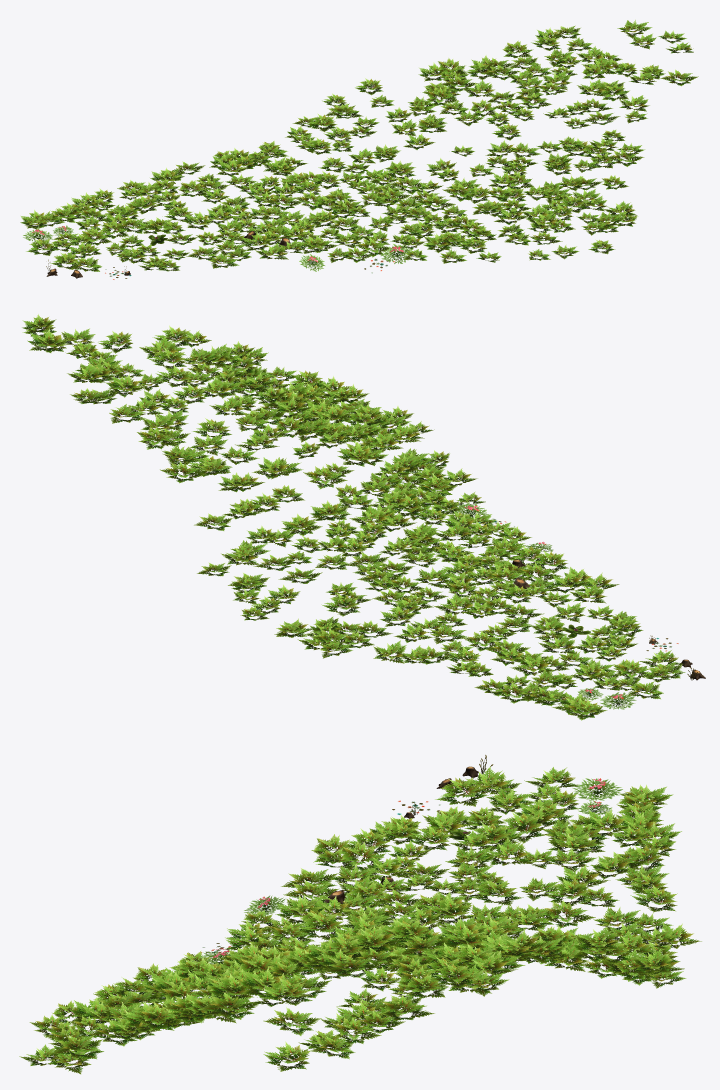
The model's file is Ferns_14.fbx.
3 renders of one model, top to bottom at view 1: azimuth 30°, elevation 25°; view 2: azimuth 150°, elevation 25°; view 3: azimuth 270°, elevation 25°, orthographic. The views are drawn at different scales.
Parts seen in each view (by area): view 1: Ferns_14; view 2: Ferns_14; view 3: Ferns_14.
Boxes of the visible parts, x1,y1,x2,y2 form: Ferns_14: (20, 19, 698, 279); Ferns_14: (22, 314, 705, 720); Ferns_14: (19, 755, 701, 1074).
Bounding box in the file's own units: 9032 × 1915 × 5596.
